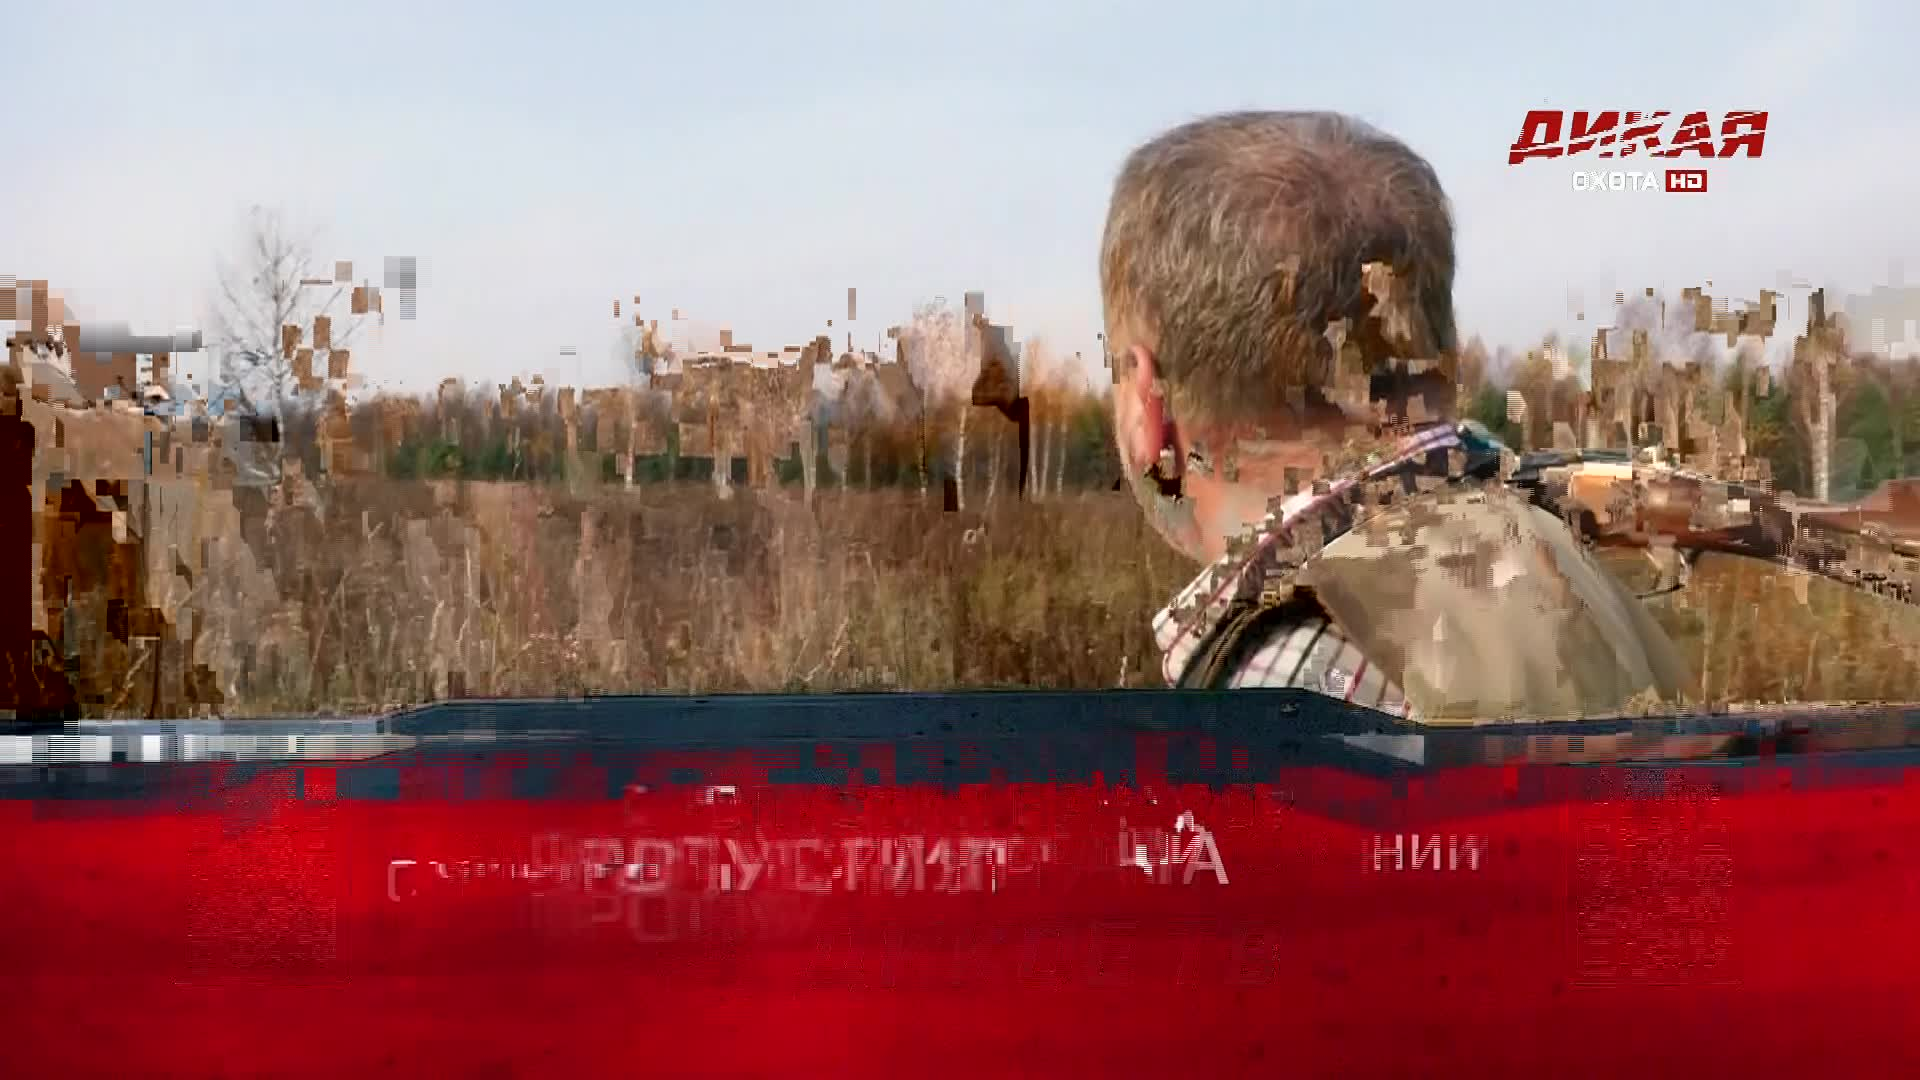Dikaya_Ohota_HD: (1505, 103, 1774, 196)
